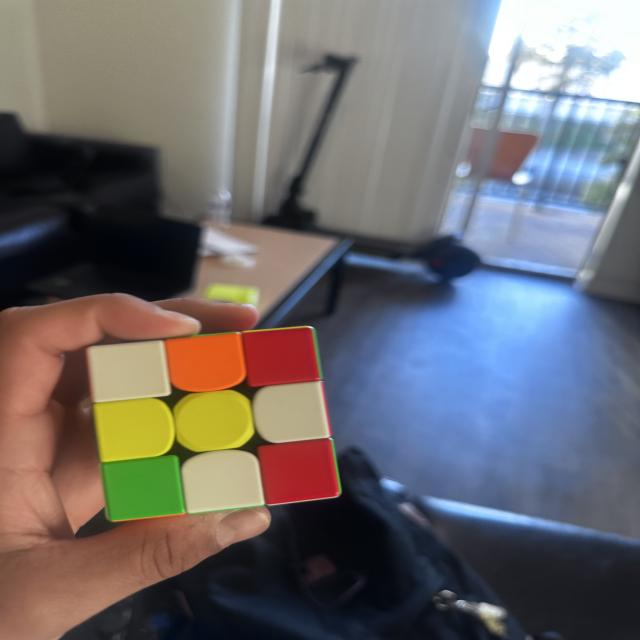sticker: (255, 435, 343, 509), (99, 454, 188, 524), (83, 338, 174, 405), (91, 396, 178, 464), (179, 448, 265, 516), (249, 379, 332, 446), (172, 389, 256, 454), (240, 325, 324, 389), (165, 331, 249, 395)
